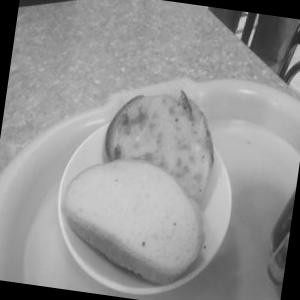bread: (36, 159, 238, 300)
cheese_sandwich: (79, 73, 237, 202)
